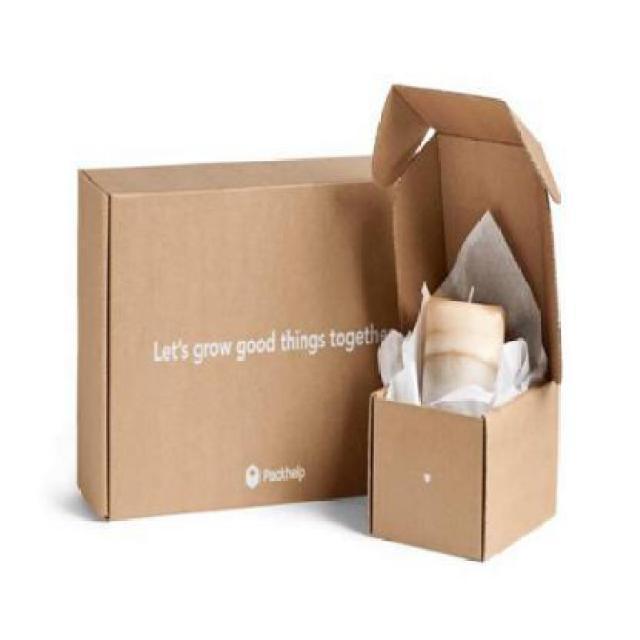box: (78, 154, 410, 522)
